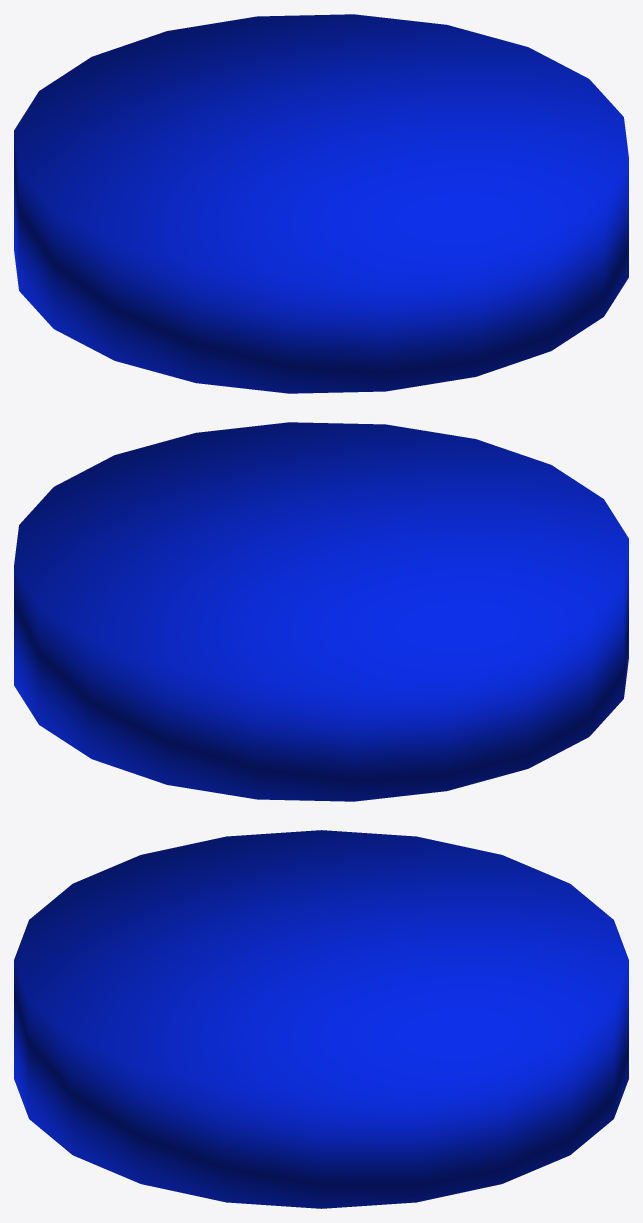
The model's file is S_Carrot_piece.fbx.
The picture shows the model from 3 angles, top to bottom: view 1: azimuth 30°, elevation 25°; view 2: azimuth 150°, elevation 25°; view 3: azimuth 270°, elevation 25°; orthographic projection.
Visible parts, largest first — view 1: Carrotte coupee_low; view 2: Carrotte coupee_low; view 3: Carrotte coupee_low.
Boxes of the visible parts, box(x1,y1,x2,y2) form: Carrotte coupee_low: box(14, 14, 628, 393); Carrotte coupee_low: box(14, 422, 628, 801); Carrotte coupee_low: box(14, 830, 628, 1208).
Size of the model in its own units: 0.046 by 0.00981 by 0.046.
